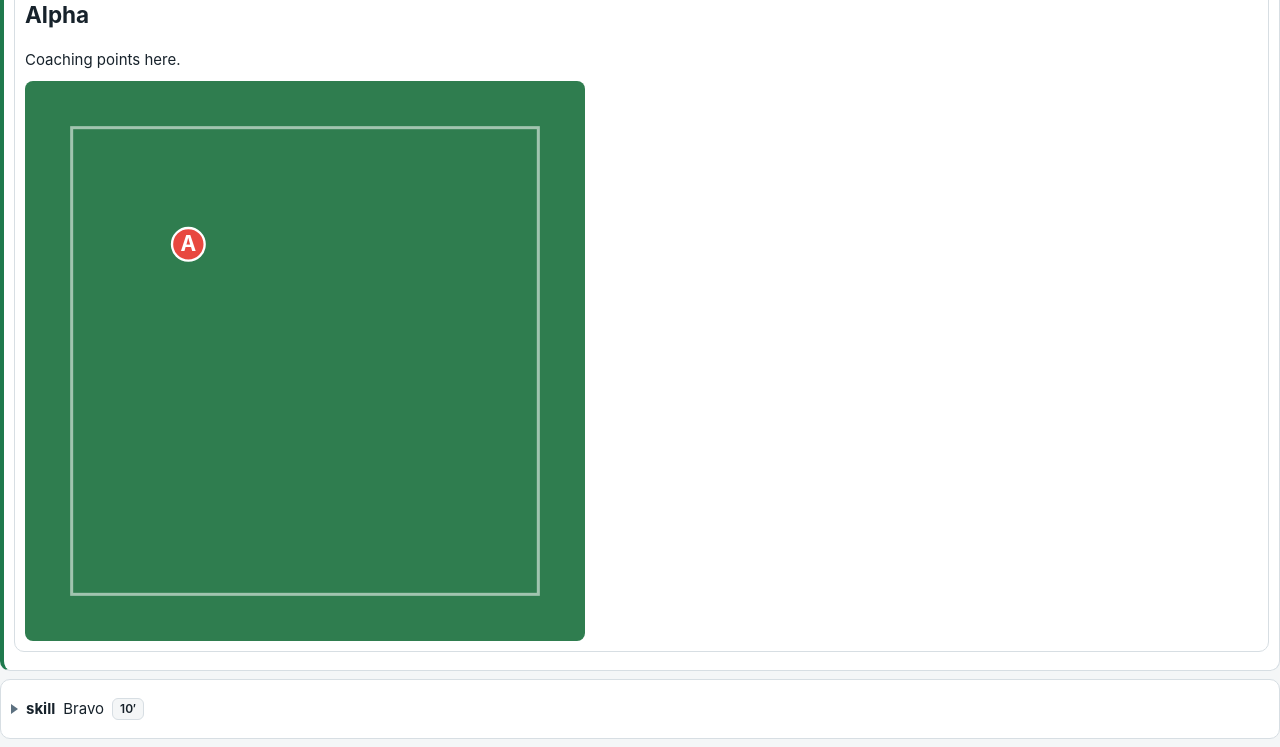
Test case: SessionRun swapping a drill › collapsing a block while its picker is open leaves it showing the drill, not the picker
(page scrolled)
Click the button with class "run-block-summary" at coordinates (84, 709), box [11,690,1261,728]
(page scrolled)
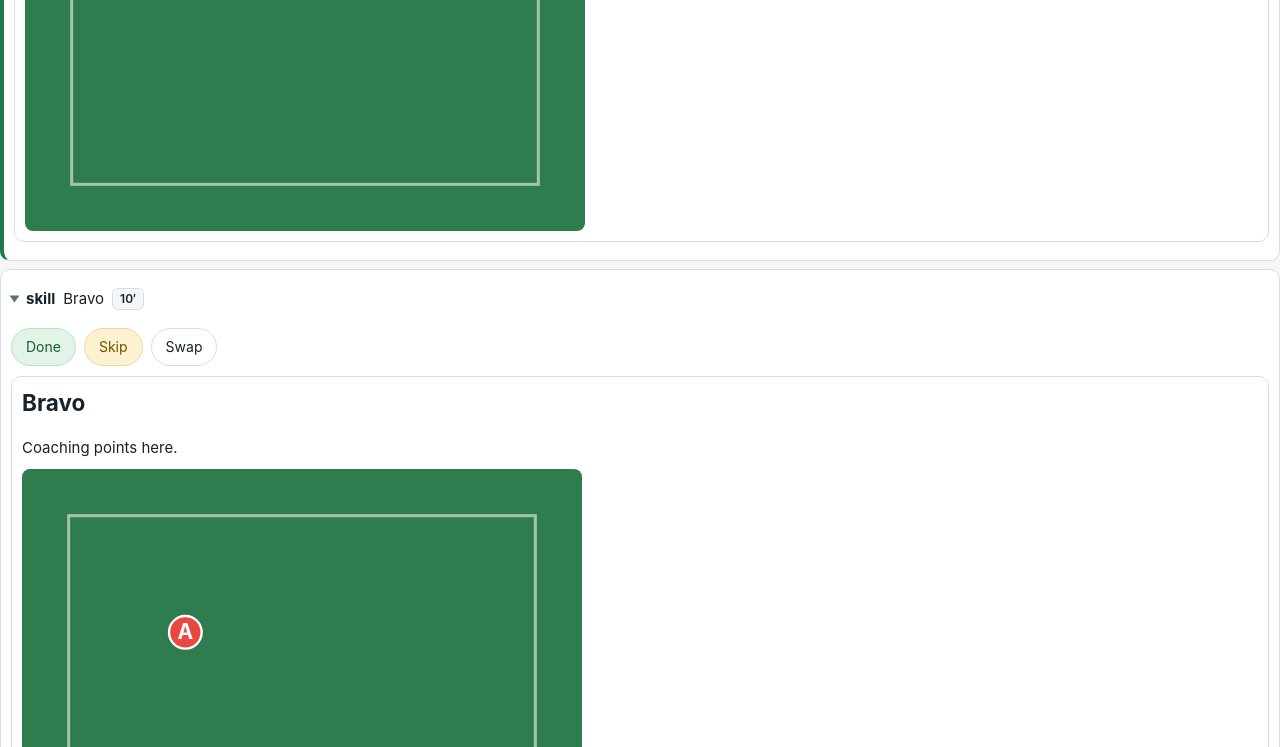
Click the button "Swap" at coordinates (184, 347), box [151,328,218,366]
(page scrolled)
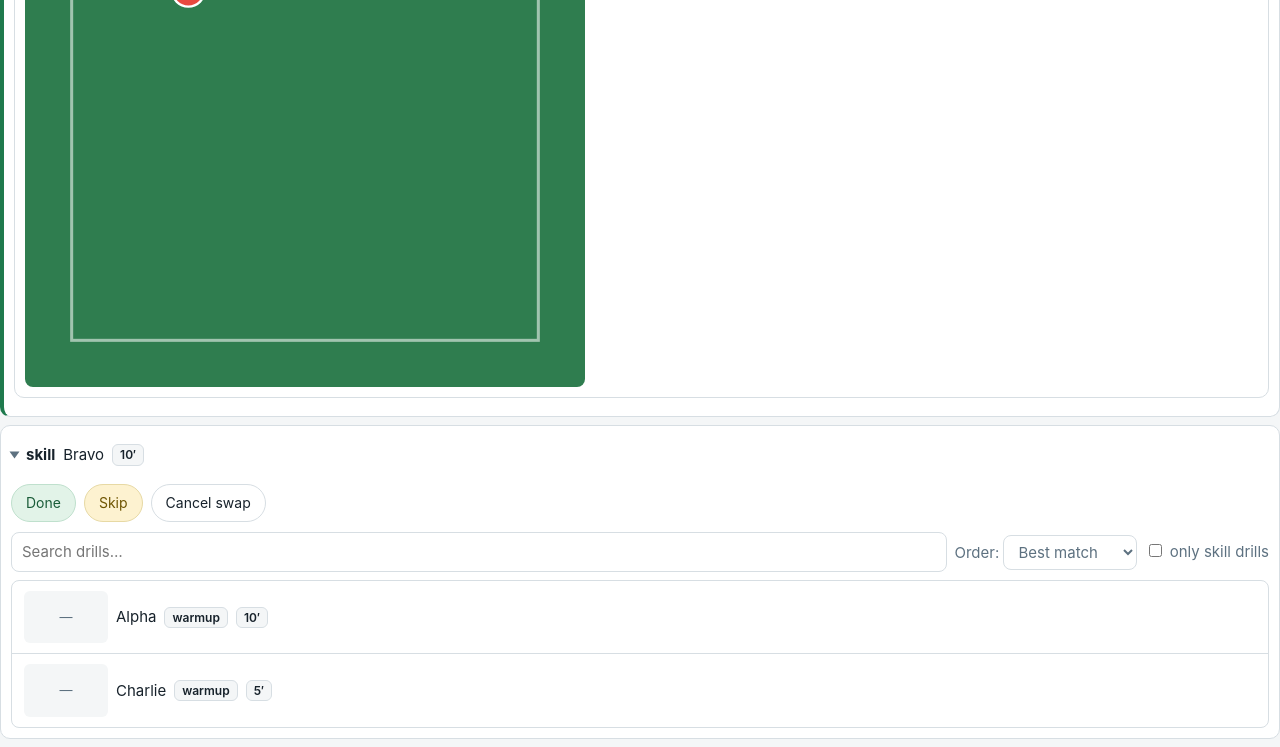
Click the button with class "run-block-summary" at coordinates (84, 455), box [11,436,1261,474]
(page scrolled)
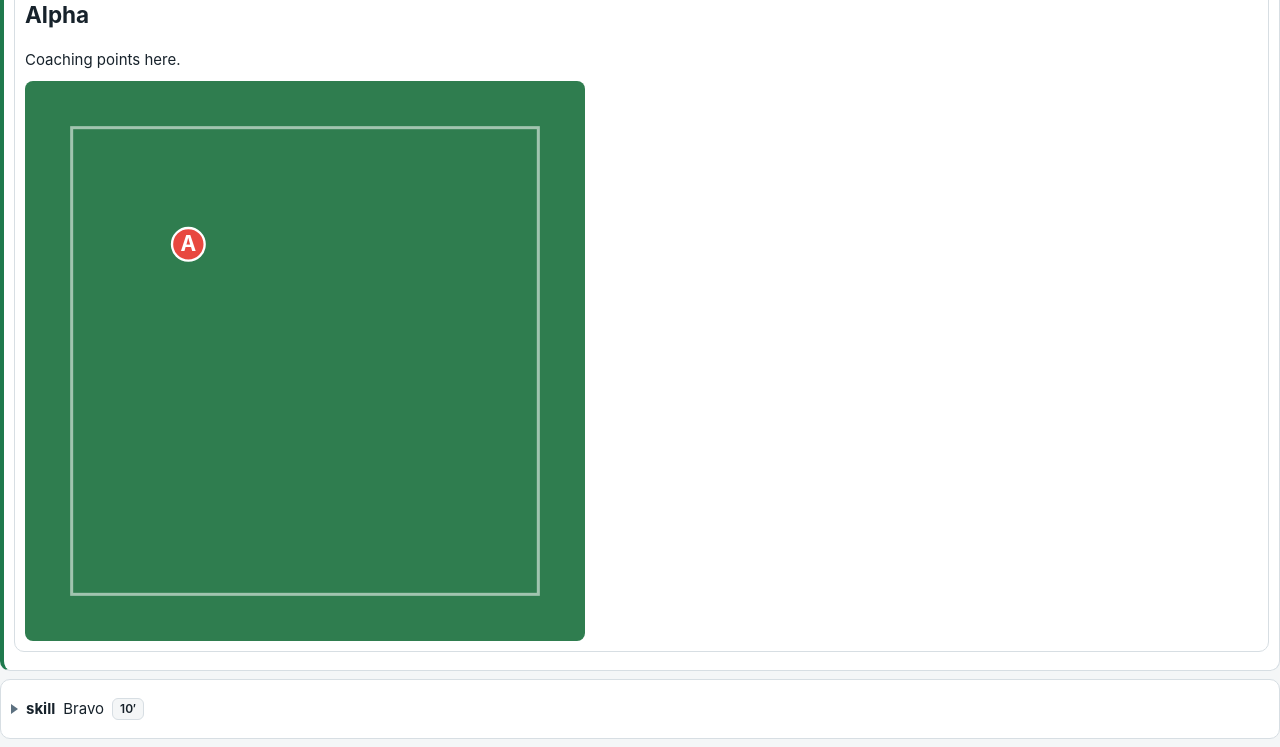
Click the button with class "run-block-summary" at coordinates (84, 709), box [11,690,1261,728]
(page scrolled)
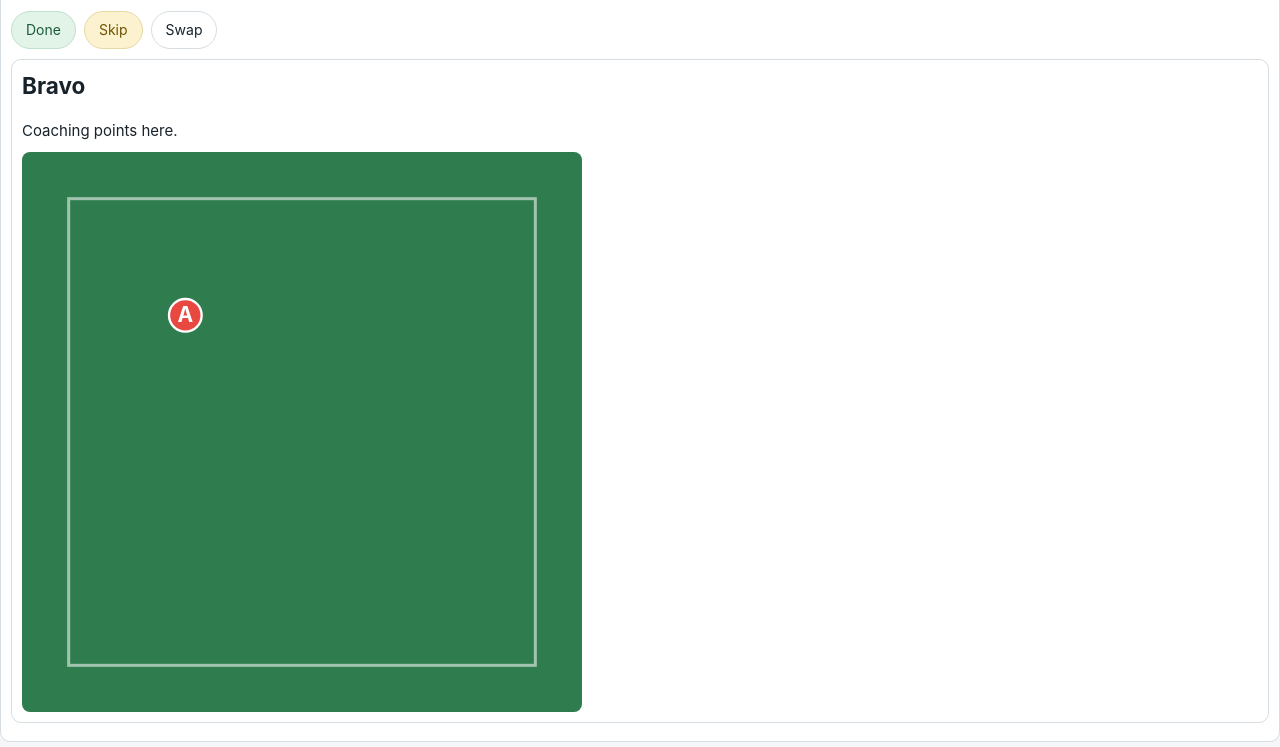
Now the element with class "run-block" shows "Coaching points here", box [22,121,178,140]
